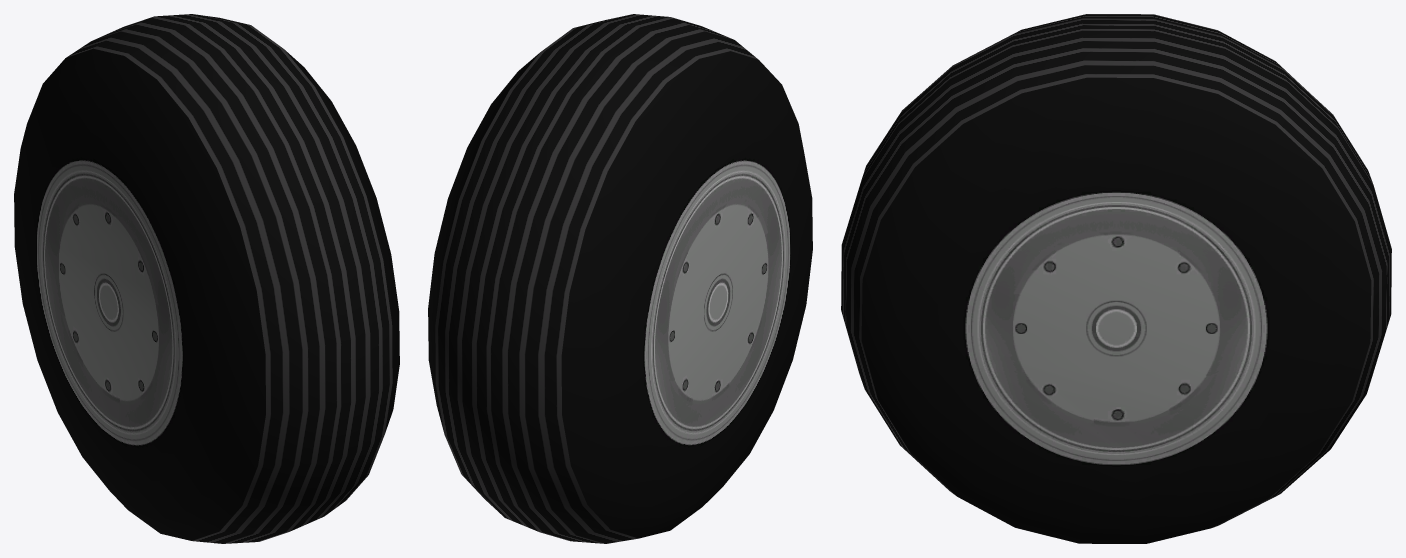
File: tempwheel.FBX
The picture shows the model from 3 angles, left to right: view 1: azimuth 30°, elevation 25°; view 2: azimuth 150°, elevation 25°; view 3: azimuth 270°, elevation 25°; orthographic projection. The views are drawn at different scales.
Visible parts, largest first — view 1: part_80_LOD_100, part_79_LOD_100; view 2: part_80_LOD_100, part_79_LOD_100; view 3: part_80_LOD_100, part_79_LOD_100.
Part boxes in pixels (box(x1,y1,x2,y2)): part_80_LOD_100: box(14, 48, 399, 540); part_79_LOD_100: box(66, 14, 392, 543); part_80_LOD_100: box(428, 51, 812, 538); part_79_LOD_100: box(435, 14, 757, 543); part_80_LOD_100: box(861, 77, 1371, 543); part_79_LOD_100: box(841, 14, 1391, 527).
Size of the model in its own units: 22.98 by 54.11 by 54.11.
Materials: 2 (2 with a texture image).
